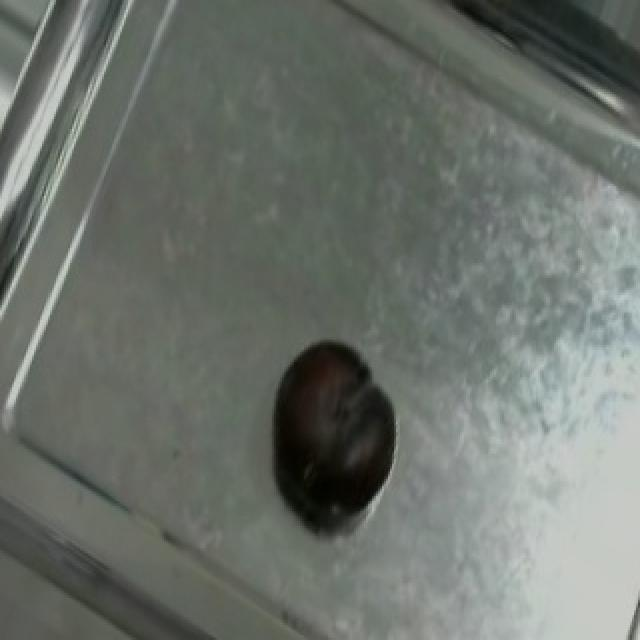Fruit: (252, 320, 406, 531)
